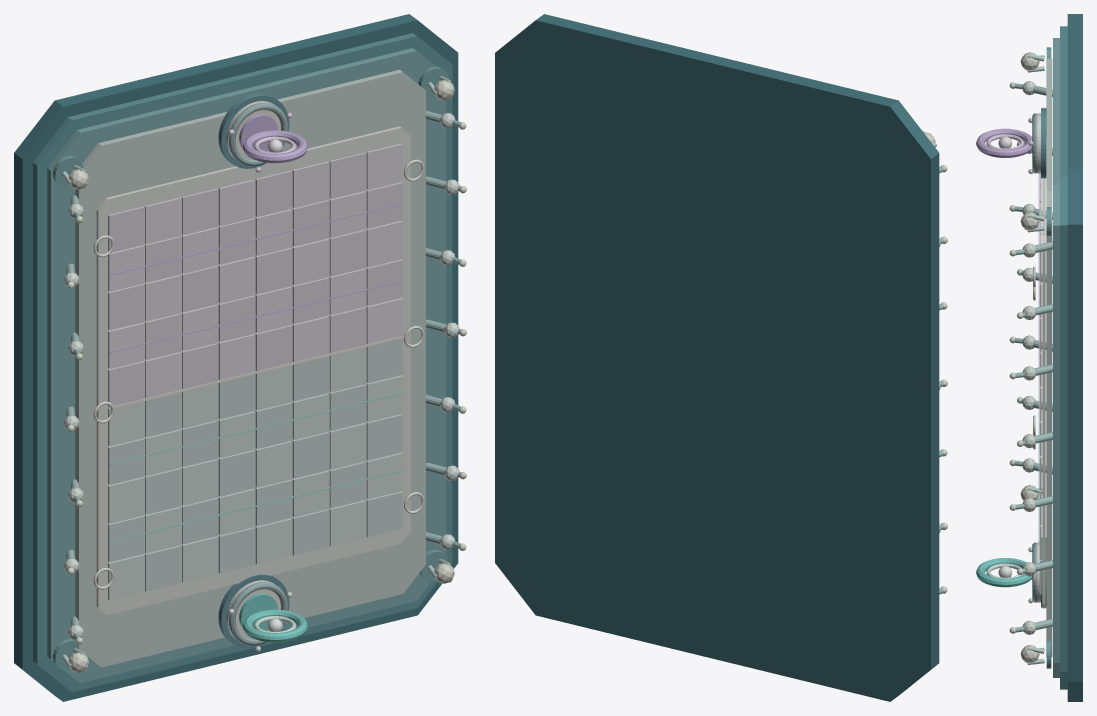
The model's file is echoarena.glb.
3 views of the same model, side by side, from view 1: azimuth 30°, elevation 25°; view 2: azimuth 150°, elevation 25°; view 3: azimuth 270°, elevation 25° (orthographic). The views are drawn at different scales.
Parts seen in each view (by area): view 1: group_03_a5c1b7, group_02_427e83, group_12_d8d2e1, group_11_cfc9da, group_10_b6d0cc, group_09_c0d8d3, group_00_153d48, group_04_dbe2d8, group_01_27616b, group_06_c7ddd1, group_17_295966, group_19_668b8e (+11 smaller); view 2: group_00_153d48; view 3: group_00_153d48, group_01_27616b, group_02_427e83, group_03_a5c1b7, group_06_c7ddd1, group_05_76aaa9, group_04_dbe2d8, group_24_a88bd6, group_29_d7ddc4, group_20_3ebbae, group_17_295966, group_19_668b8e (+14 smaller).
Part boxes in pixels (x1=…): group_03_a5c1b7: x1=75, y1=69, x2=425, y2=667; group_02_427e83: x1=47, y1=48, x2=446, y2=683; group_12_d8d2e1: x1=108, y1=143, x2=402, y2=398; group_11_cfc9da: x1=108, y1=152, x2=402, y2=407; group_10_b6d0cc: x1=108, y1=337, x2=402, y2=591; group_09_c0d8d3: x1=108, y1=347, x2=402, y2=600; group_00_153d48: x1=14, y1=14, x2=458, y2=701; group_04_dbe2d8: x1=96, y1=126, x2=410, y2=615; group_01_27616b: x1=33, y1=33, x2=452, y2=692; group_06_c7ddd1: x1=63, y1=113, x2=459, y2=640; group_17_295966: x1=218, y1=93, x2=289, y2=648; group_19_668b8e: x1=228, y1=103, x2=288, y2=645; group_00_153d48: x1=495, y1=14, x2=939, y2=701; group_00_153d48: x1=1067, y1=14, x2=1082, y2=701; group_01_27616b: x1=1060, y1=26, x2=1067, y2=689; group_02_427e83: x1=1053, y1=38, x2=1059, y2=677; group_03_a5c1b7: x1=1046, y1=58, x2=1052, y2=657; group_06_c7ddd1: x1=1022, y1=81, x2=1036, y2=634; group_05_76aaa9: x1=1033, y1=85, x2=1052, y2=629; group_04_dbe2d8: x1=1042, y1=107, x2=1045, y2=608; group_24_a88bd6: x1=976, y1=128, x2=1032, y2=157; group_29_d7ddc4: x1=1020, y1=52, x2=1039, y2=662; group_20_3ebbae: x1=976, y1=558, x2=1032, y2=587; group_17_295966: x1=1041, y1=108, x2=1046, y2=607; group_19_668b8e: x1=1032, y1=113, x2=1037, y2=602.
Size of the model in its own units: 11.8 by 15.4 by 2.8.
